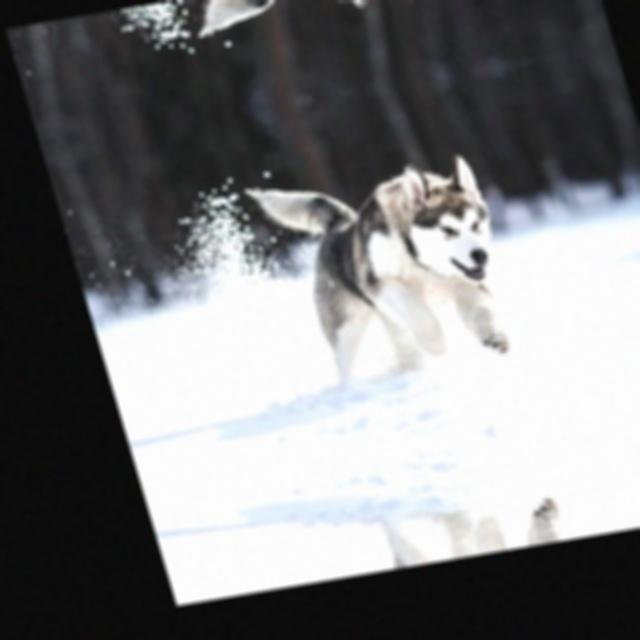dog: (246, 132, 566, 446), (335, 430, 604, 574), (194, 0, 448, 51)
